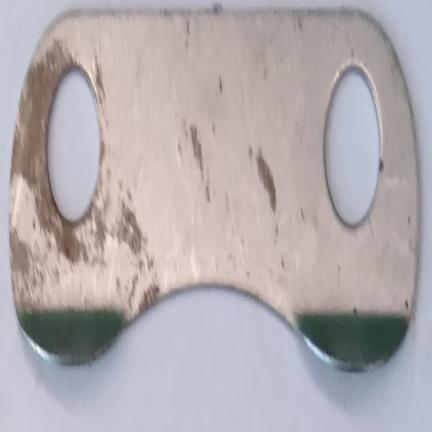karat: (28, 127, 39, 160)
